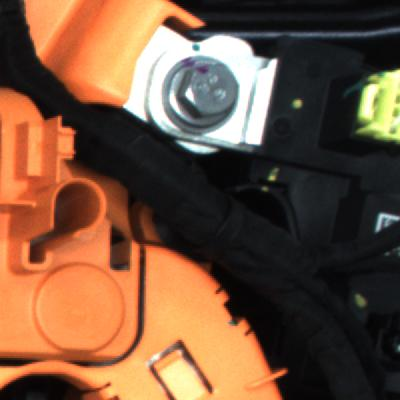nut_b: (155, 44, 255, 134)
